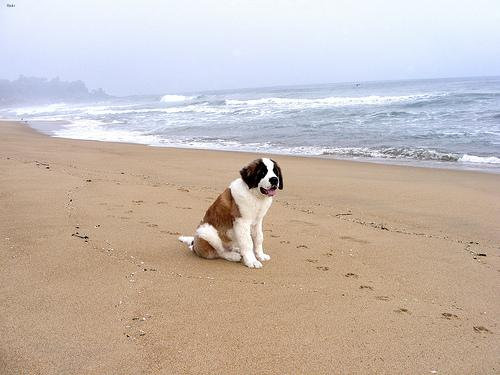dog-saint_bernard: (239, 156, 282, 195)
